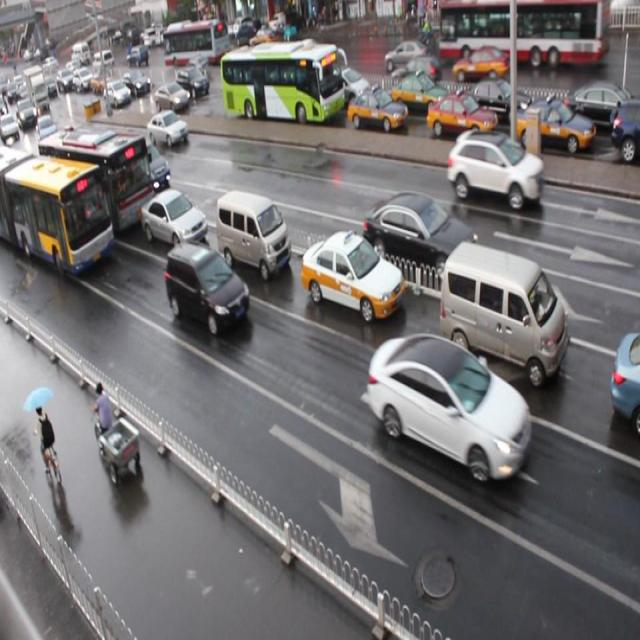car: (367, 329, 529, 485), (362, 192, 480, 288), (300, 229, 403, 321), (446, 130, 546, 212), (165, 241, 250, 335), (514, 101, 594, 160), (139, 188, 207, 252), (558, 84, 640, 135), (426, 91, 497, 145), (466, 79, 537, 127), (608, 330, 640, 433), (345, 88, 407, 134), (388, 70, 450, 116), (324, 63, 373, 105), (610, 100, 640, 161), (22, 160, 61, 204), (148, 111, 189, 149), (150, 82, 187, 114), (173, 66, 206, 98), (120, 70, 152, 98), (103, 80, 130, 108)
truck: (439, 240, 568, 389), (214, 187, 290, 282), (123, 138, 170, 190)
van: (1, 144, 115, 281), (38, 127, 153, 235), (216, 41, 339, 125)
